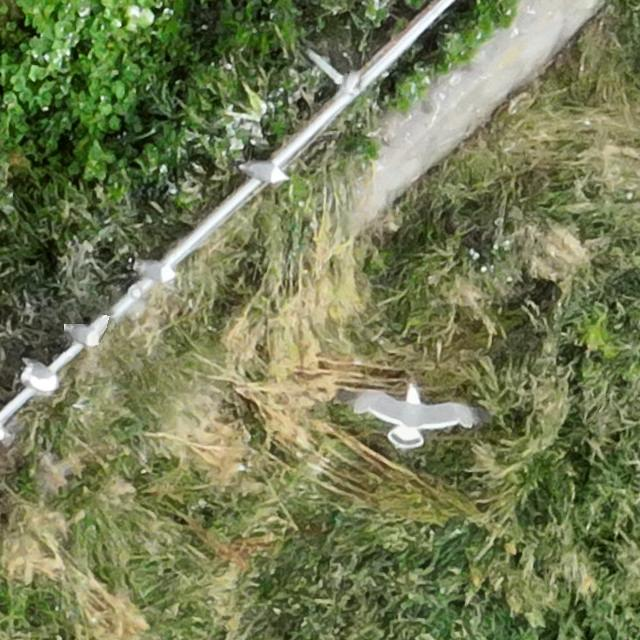F: (359, 385, 467, 444)
umineko: (18, 359, 56, 392), (238, 160, 286, 182), (134, 260, 173, 282), (66, 325, 100, 345)
